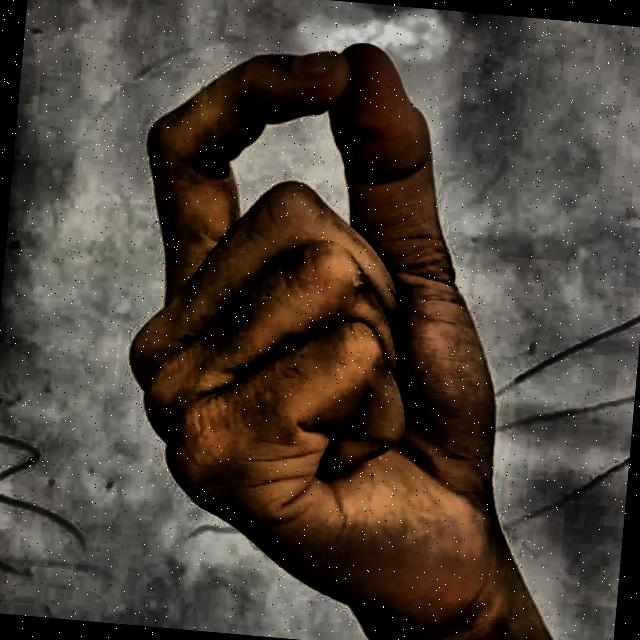Gha: (55, 4, 602, 640)
